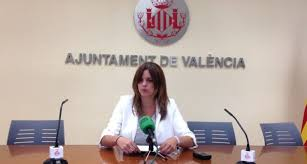person: (119, 62, 175, 120)
